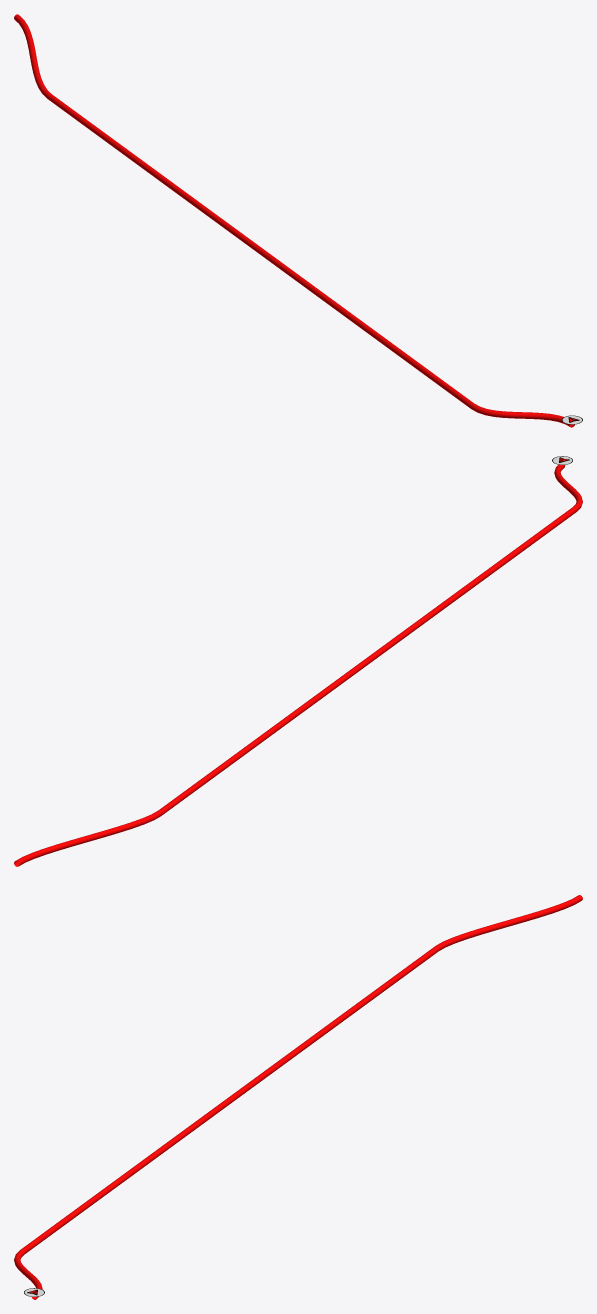
File: route_3b4209df-20f4-4bbd-81df-ca55f2ed7d03_de_single.glb
3 renders of one model, top to bottom at view 1: azimuth 30°, elevation 25°; view 2: azimuth 150°, elevation 25°; view 3: azimuth 330°, elevation 25°, orthographic.
Visible parts, largest first — view 1: Gartenabteilung Abteilung; view 2: Gartenabteilung Abteilung; view 3: Gartenabteilung Abteilung.
Boxes of the visible parts, x1,y1,x2,y2 form: Gartenabteilung Abteilung: (14,14,574,427); Gartenabteilung Abteilung: (14,464,582,866); Gartenabteilung Abteilung: (14,895,582,1299).
Size of the model in its own units: 0.952 by 0.1062 by 13.61.
